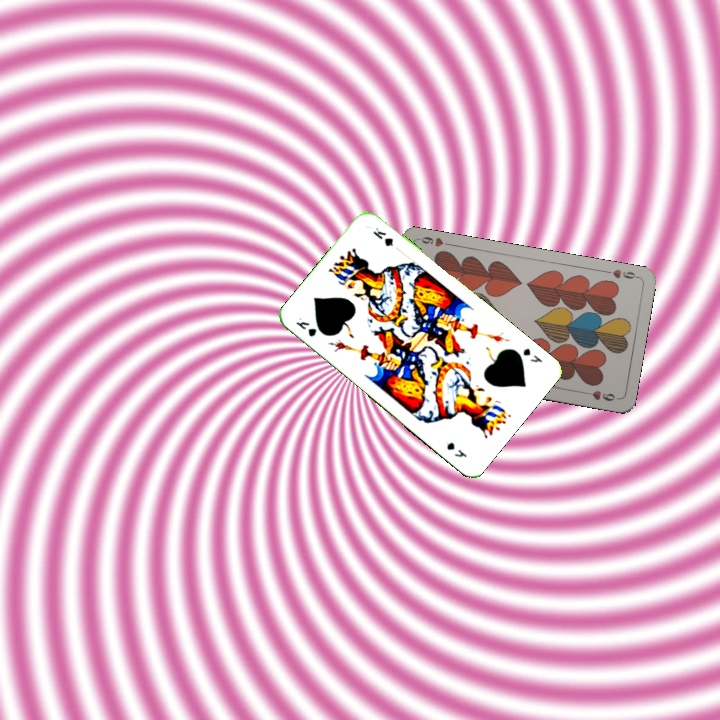GK: (292, 317, 319, 339), (519, 344, 545, 365)
H9: (600, 265, 641, 282)
